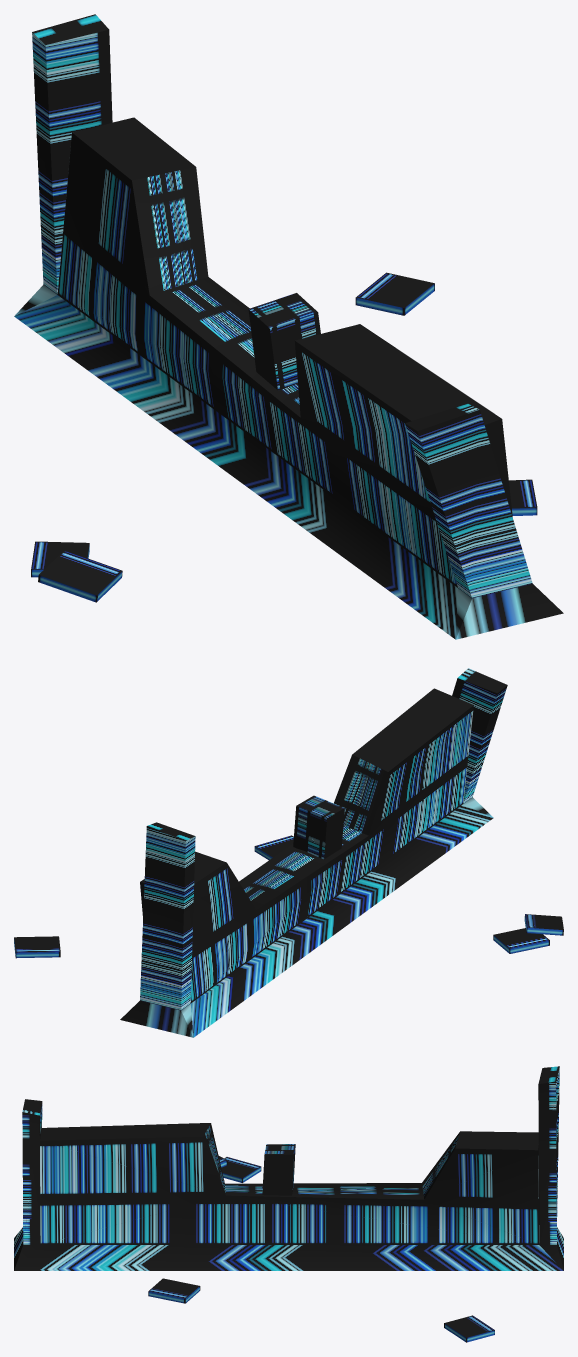
File: Cor1_prop_librarystack_dest.fbx
3 renders of one model, top to bottom at view 1: azimuth 30°, elevation 25°; view 2: azimuth 150°, elevation 25°; view 3: azimuth 270°, elevation 25°, orthographic. The views are drawn at different scales.
Parts seen in each view (by area): view 1: BookCase_dest1, polymsh1221; view 2: BookCase_dest1, polymsh1221; view 3: BookCase_dest1, polymsh1221.
Boxes of the visible parts, box(x1,y1,x2,y2) form: BookCase_dest1: box(14, 14, 563, 639); polymsh1221: box(31, 272, 537, 602); BookCase_dest1: box(120, 668, 507, 1037); polymsh1221: box(14, 835, 563, 958); BookCase_dest1: box(14, 1066, 563, 1270); polymsh1221: box(148, 1156, 494, 1342).
Bounding box in the file's own units: 5.68 × 2.62 × 7.22.
